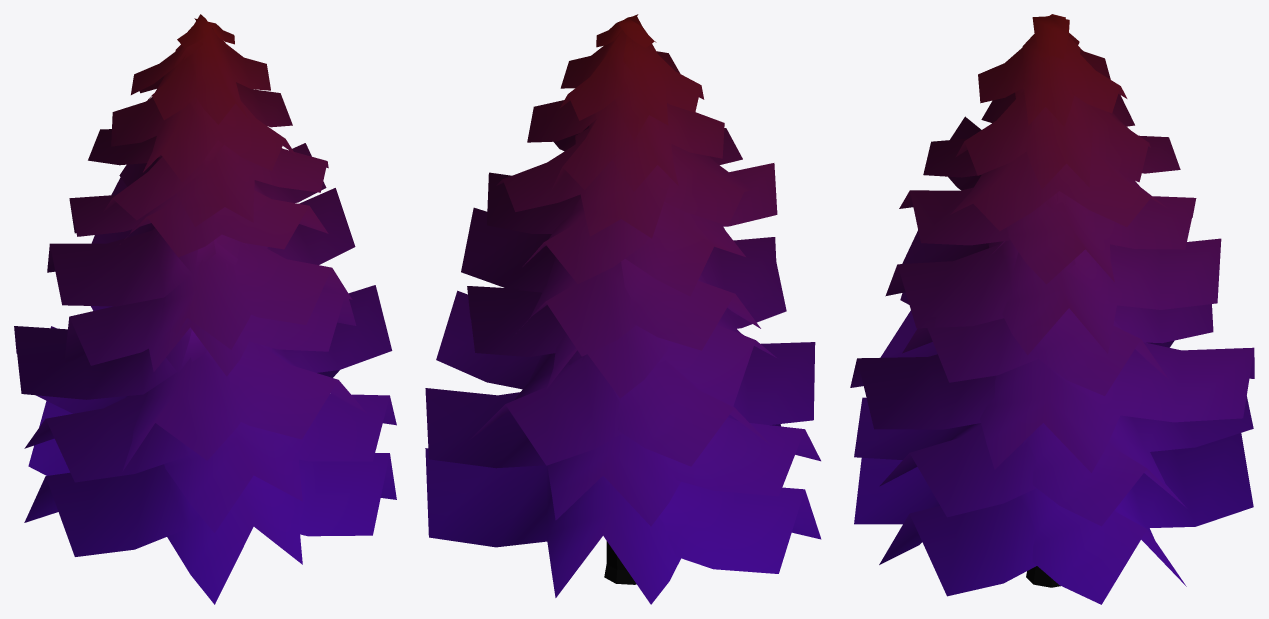
Rendered from SM_Tree_Pine_02_LOD_01.fbx.
3 views of the same model, side by side, from view 1: azimuth 30°, elevation 25°; view 2: azimuth 150°, elevation 25°; view 3: azimuth 270°, elevation 25° (orthographic). The views are drawn at different scales.
Parts seen in each view (by area): view 1: SM_Tree_Pine_02_LOD_01; view 2: SM_Tree_Pine_02_LOD_01; view 3: SM_Tree_Pine_02_LOD_01.
Part boxes in pixels (<box>): SM_Tree_Pine_02_LOD_01: <box>14,14,396,604</box>; SM_Tree_Pine_02_LOD_01: <box>425,14,821,604</box>; SM_Tree_Pine_02_LOD_01: <box>850,14,1254,604</box>.
Bounding box in the file's own units: 299 × 459 × 300.
